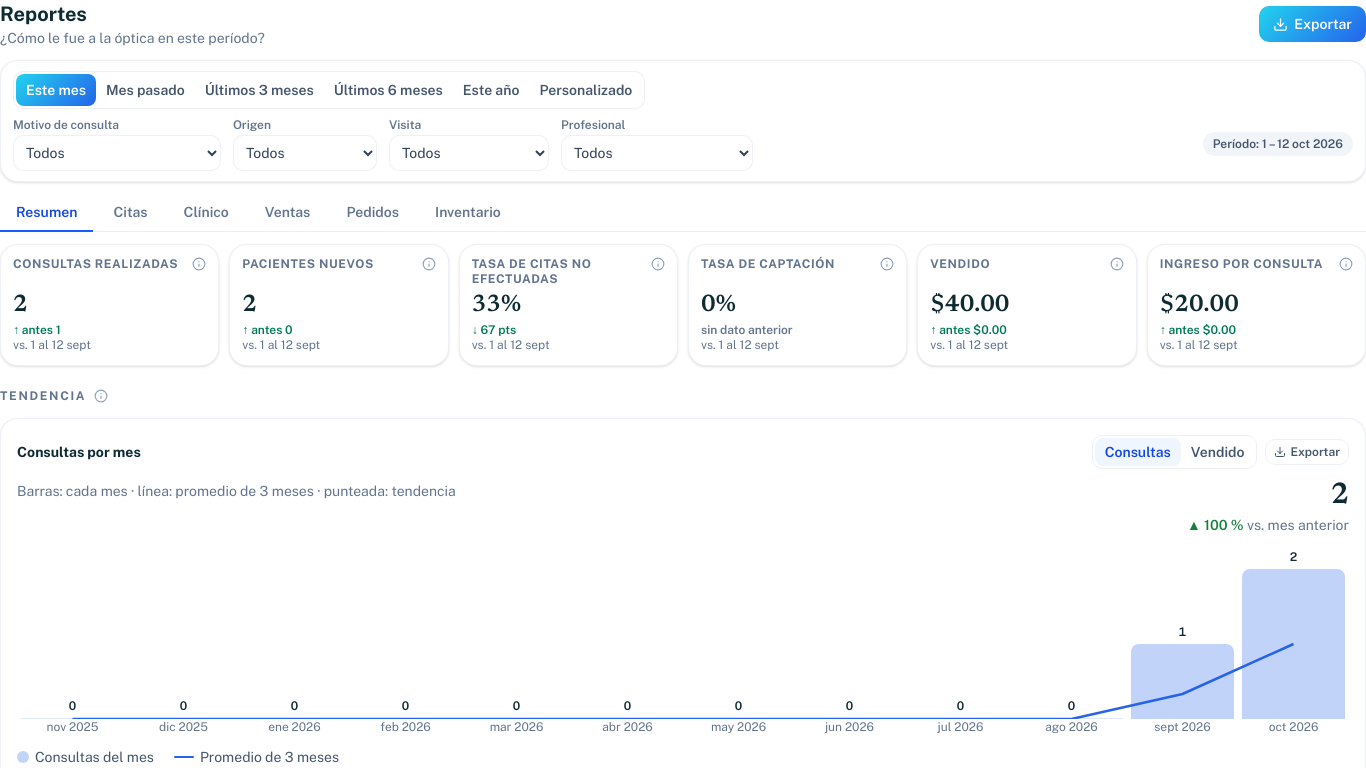
Test: Reportes: la pestaña Inventario › las más vendidas se ven con sus unidades y abren la lista de lo vendido
Step 1. Click the tab "Inventario" → (468, 213), box [419, 194, 517, 232]
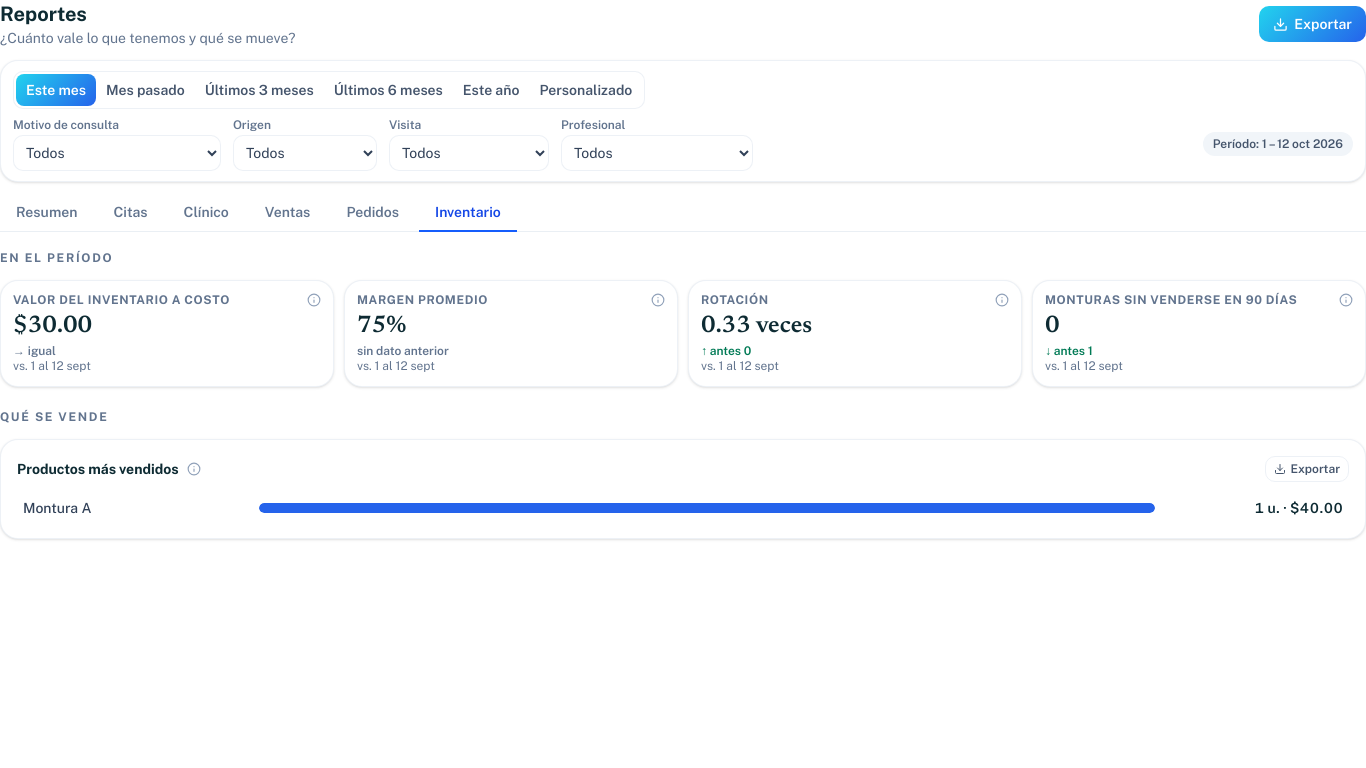
Step 2. Click the button with aria-label "Montura A: 1 unidad por $40.00" → (683, 508), box [17, 494, 1349, 522]
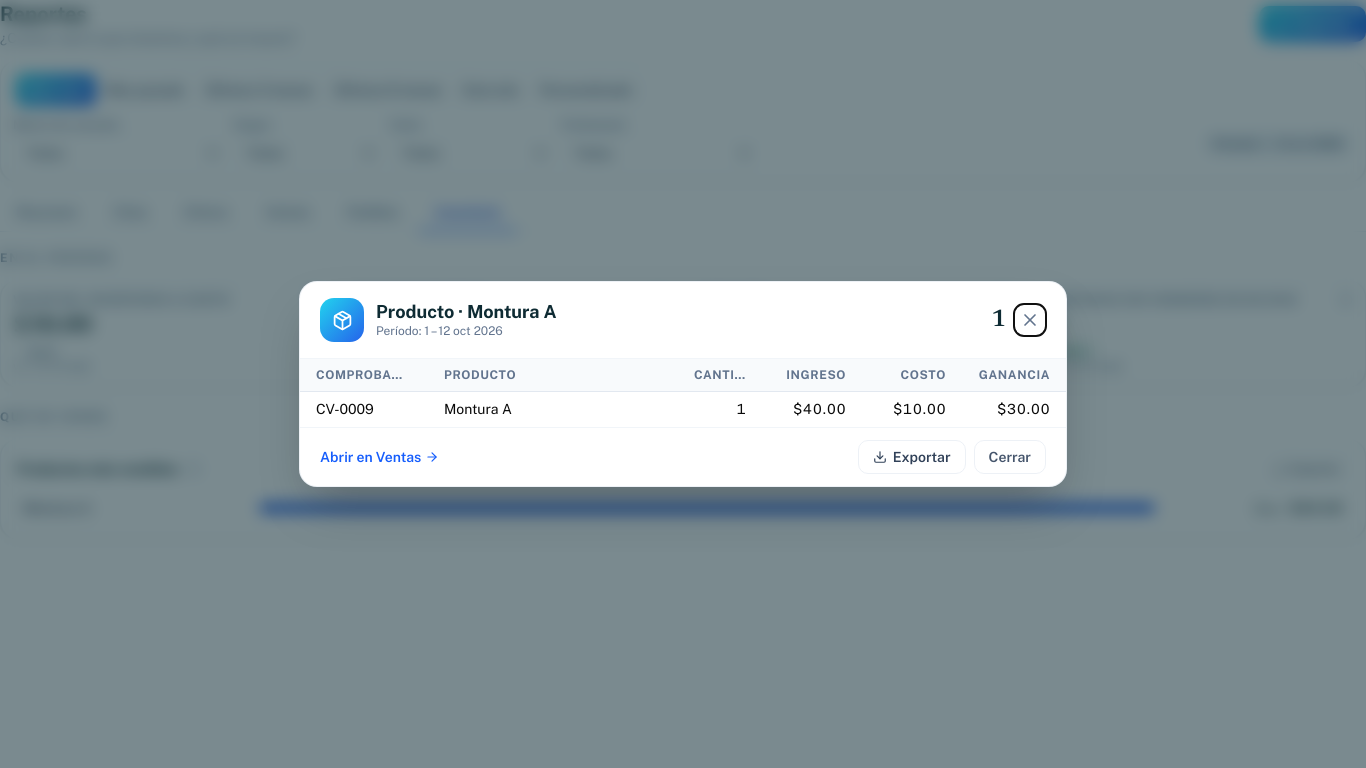
Expected: the text "1" is shown, [991, 308, 1006, 332]
Expected: the number of rows is 2, [300, 359, 1066, 391]; [300, 391, 1066, 427]
